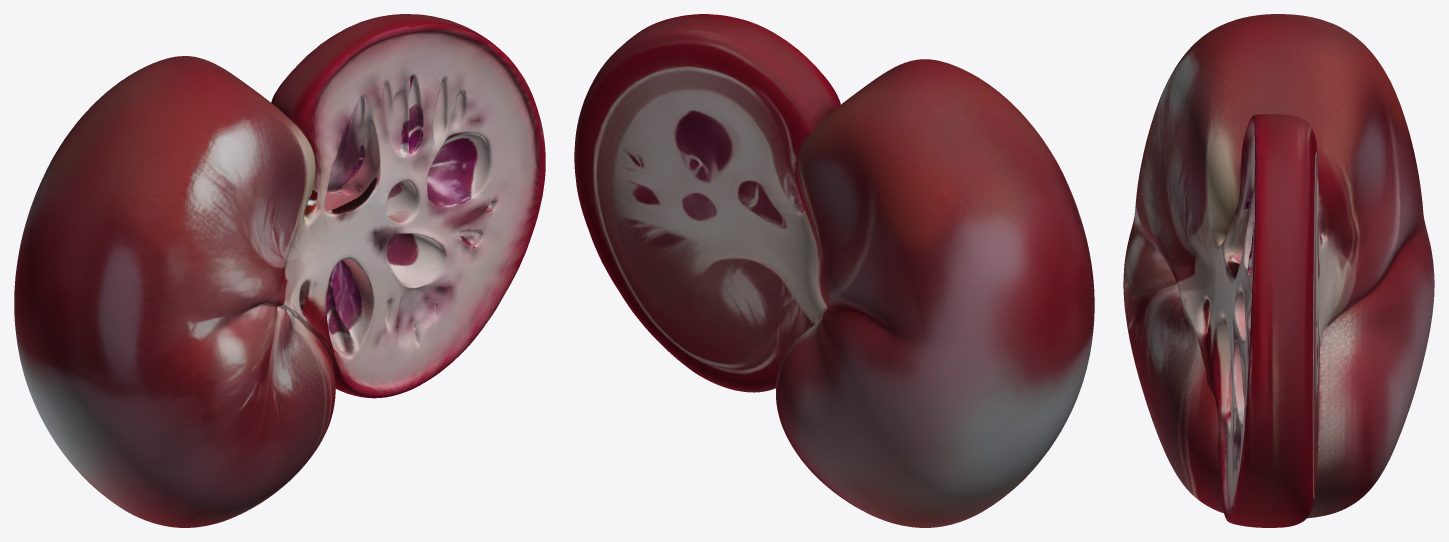
The model's file is vet_v2_organ_cat_kidney.glb.
3 renders of one model, left to right at view 1: azimuth 30°, elevation 25°; view 2: azimuth 150°, elevation 25°; view 3: azimuth 270°, elevation 25°, orthographic. The views are drawn at different scales.
Parts seen in each view (by area): view 1: model; view 2: model; view 3: model.
Boxes of the visible parts, <box> form: model: <box>14,14,545,527</box>; model: <box>574,14,1094,527</box>; model: <box>1123,14,1434,527</box>.
Bounding box in the file's own units: 1.9 × 1.62 × 0.9329.
1 material, 1 textured.
